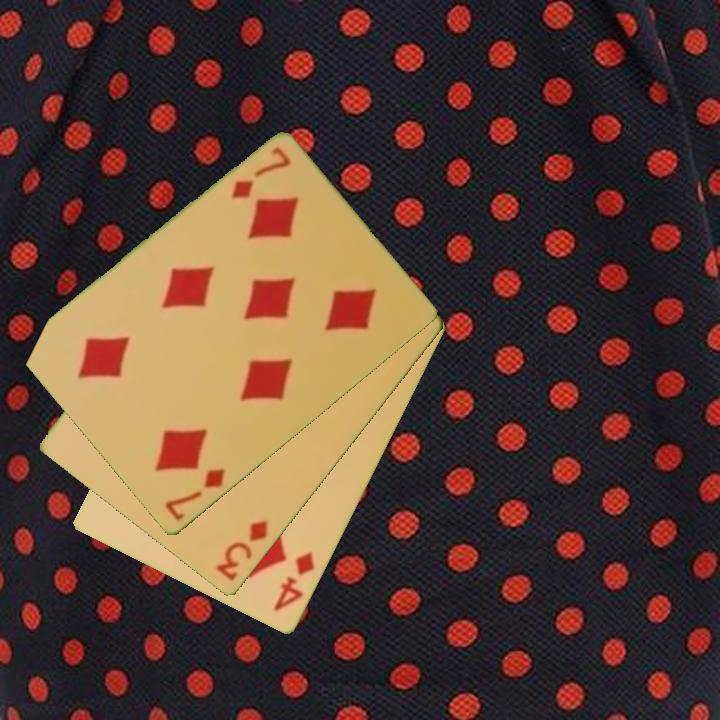3d: (212, 517, 271, 585)
4d: (270, 548, 318, 615)
7d: (227, 143, 294, 203), (161, 465, 229, 524)
